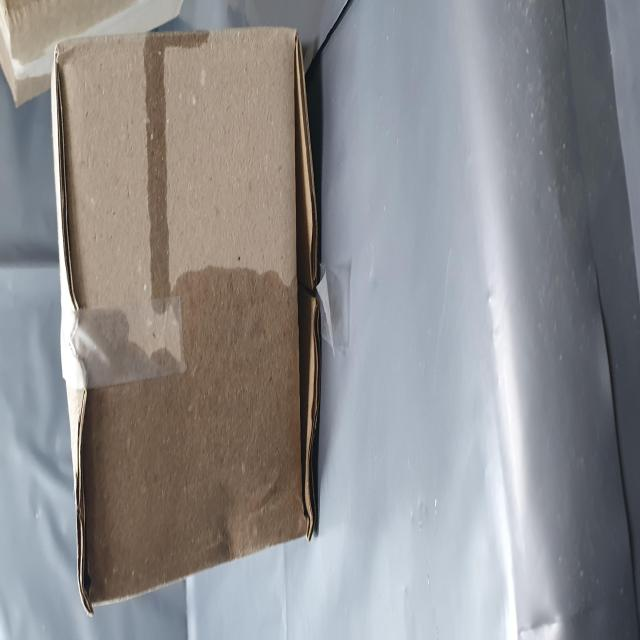wet: (22, 122, 210, 552), (191, 251, 341, 322)
